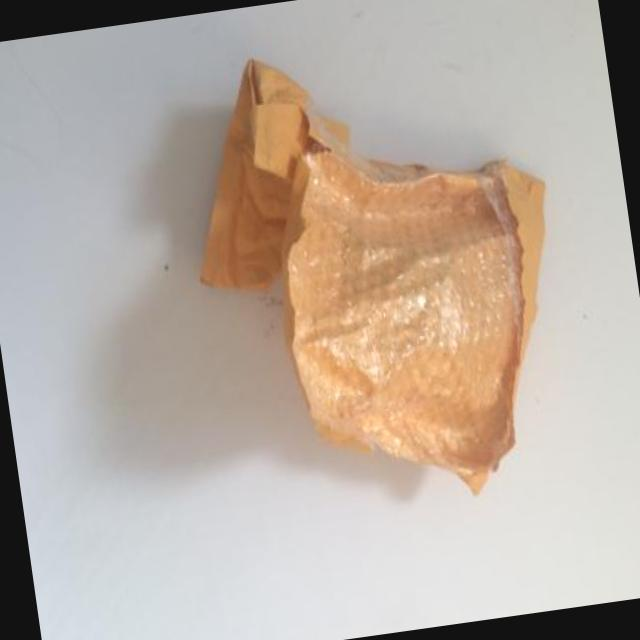giay: (199, 58, 350, 288), (489, 160, 545, 350)
tui_ni_long: (283, 143, 524, 496)
